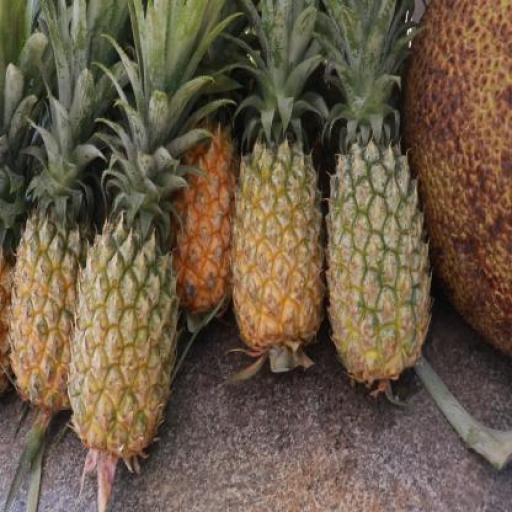------------------------------: (70, 222, 174, 445)
Pineapple - v8 v1: (230, 143, 323, 346), (5, 218, 86, 413), (173, 123, 239, 318)
